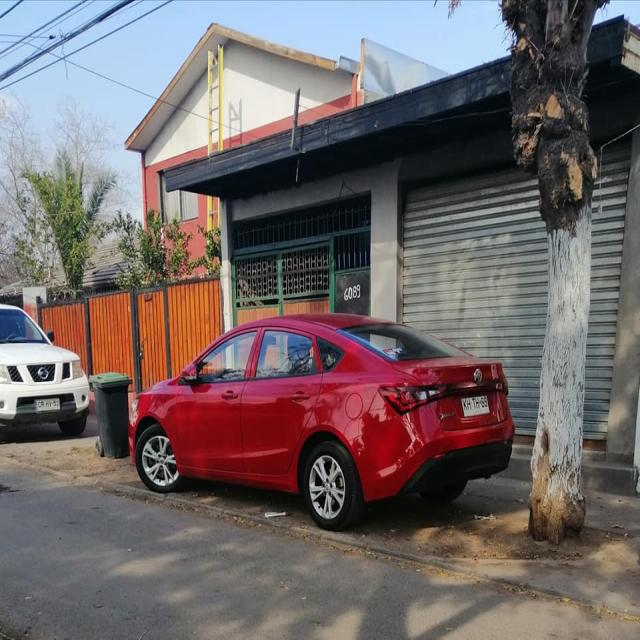patente: (460, 394, 490, 417), (33, 396, 60, 411)
